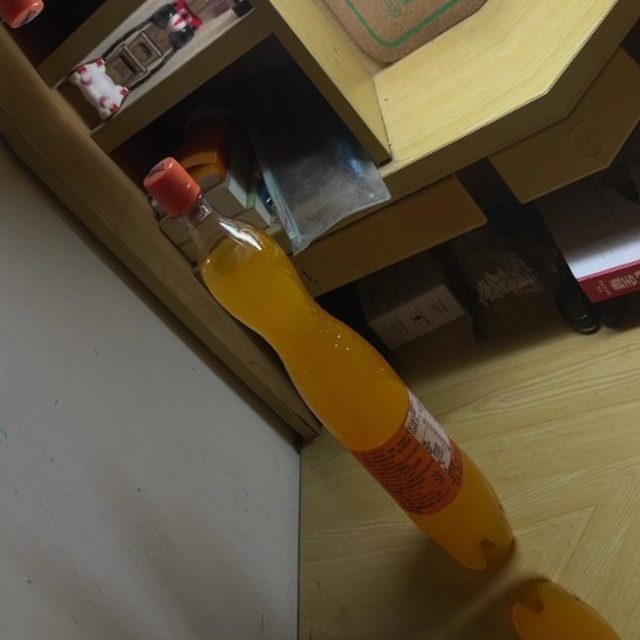Fanta: (124, 131, 530, 590)
